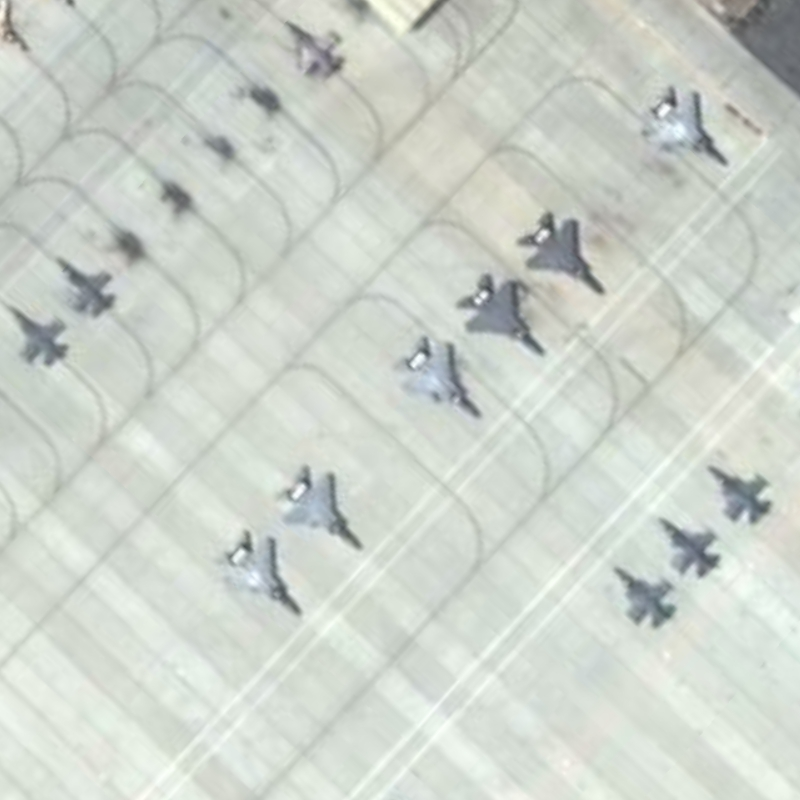A13: (205, 526, 310, 627), (632, 78, 736, 177), (265, 460, 371, 557), (448, 265, 552, 361), (516, 205, 615, 305), (387, 331, 487, 427)
A5: (602, 558, 680, 638), (276, 9, 357, 86), (700, 458, 783, 533), (650, 505, 727, 580), (1, 296, 71, 370), (53, 249, 124, 321)
